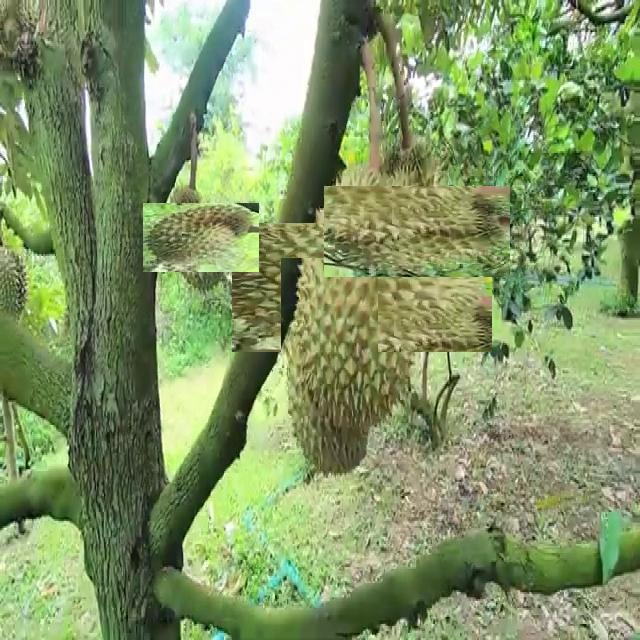durian: (264, 190, 459, 385), (281, 258, 378, 480), (348, 162, 487, 300), (154, 190, 248, 284), (1, 238, 33, 329)
